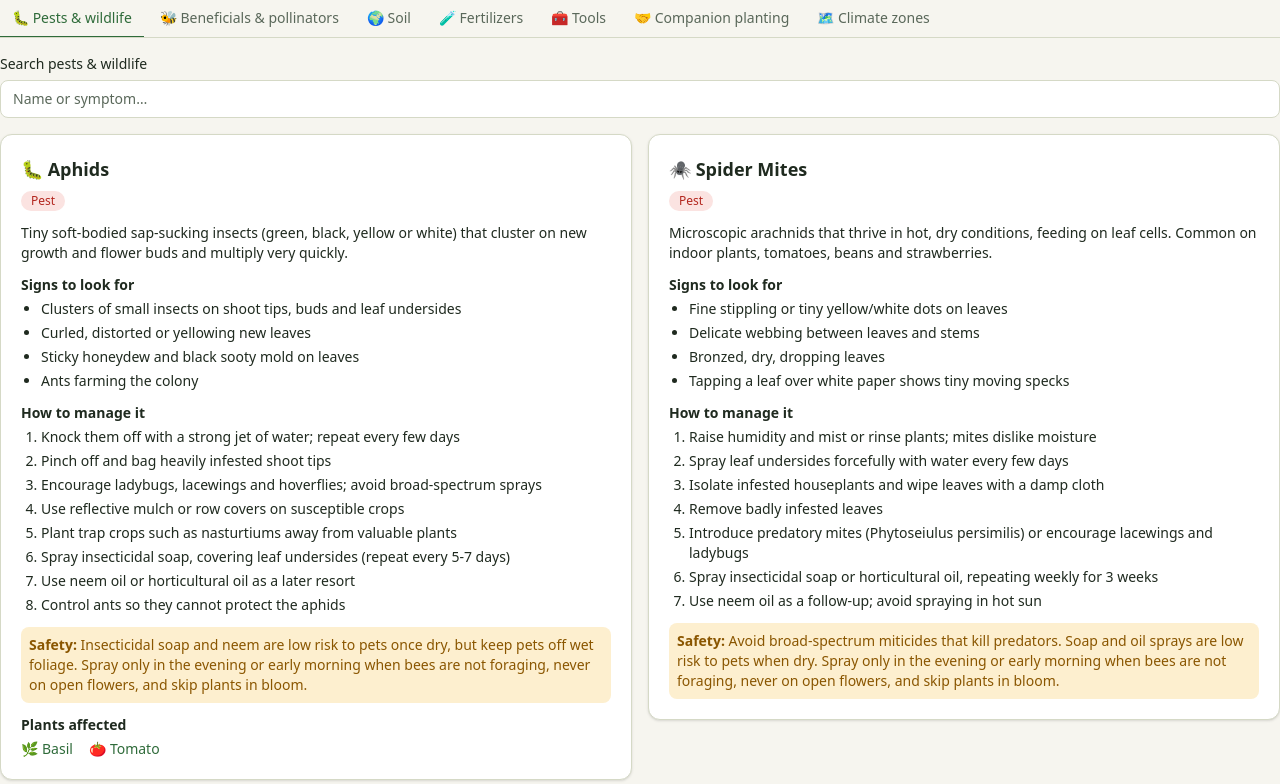
Test: Guides › shows fertilizer badges and an NPK explainer
The width and height of the screenshot is (1280, 784).
Click the tab "🧪 Fertilizers".
click(481, 19)  # box left=427, top=0, right=535, bottom=38
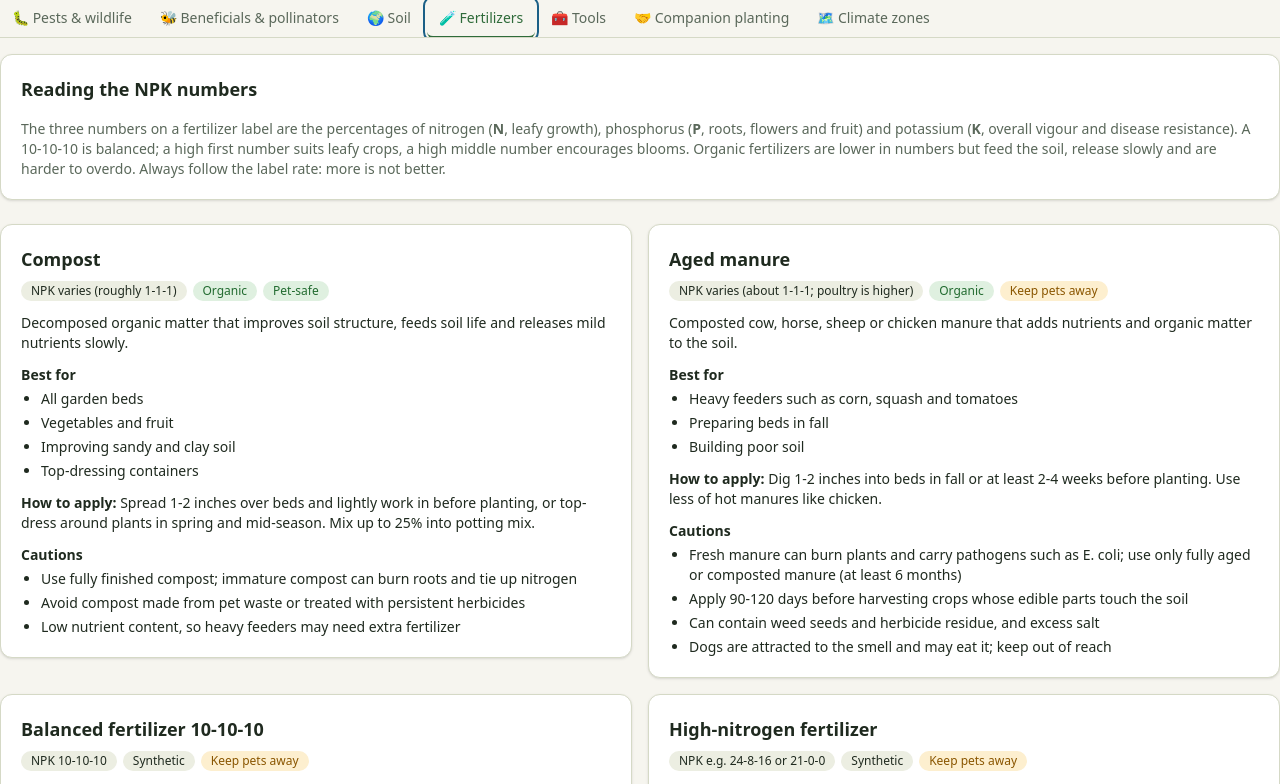
Expected: the heading "Reading the NPK numbers" is shown, left=21, top=75, right=257, bottom=103
Expected: the text "Organic" next to "varies (roughly 1-1-1)" is shown, left=202, top=282, right=247, bottom=299
Expected: the text "Pet-safe" is shown, left=263, top=281, right=329, bottom=301
